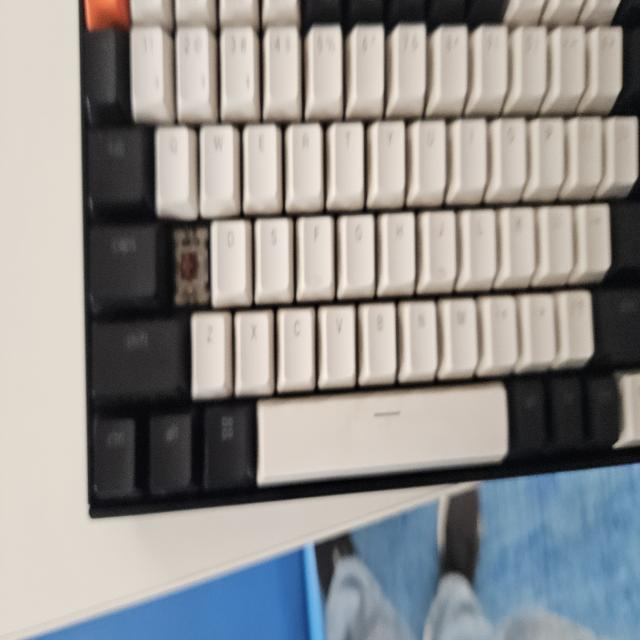C: (173, 239, 200, 297), (177, 238, 197, 298)
